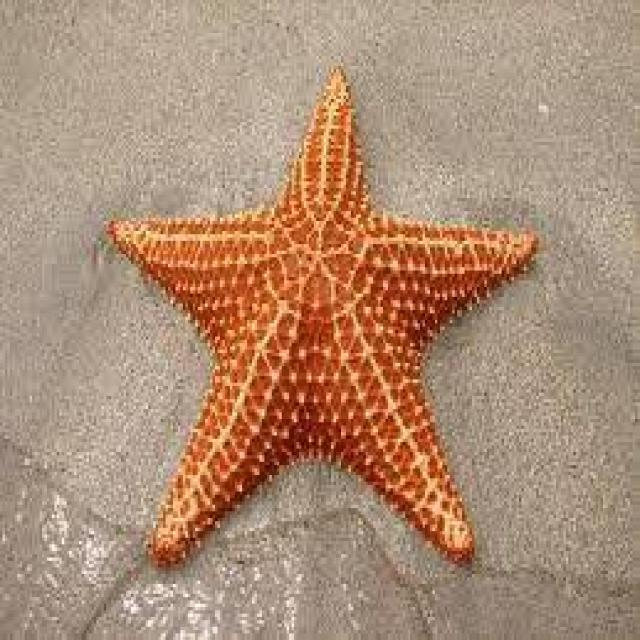starfish: (109, 69, 536, 561)
